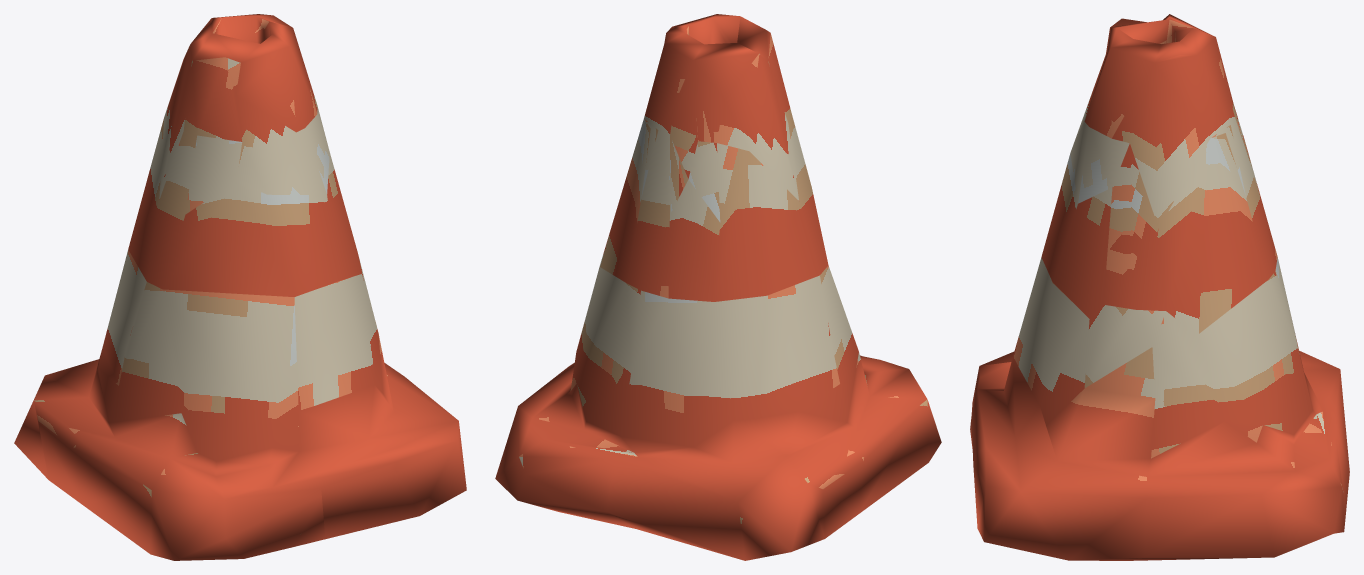
Rendered from hat-cone.glb.
3 renders of one model, left to right at view 1: azimuth 30°, elevation 25°; view 2: azimuth 150°, elevation 25°; view 3: azimuth 270°, elevation 25°, orthographic. The views are drawn at different scales.
Parts seen in each view (by area): view 1: tripo_node_527d05c4-6e12-43c2-9303-499716d3c907; view 2: tripo_node_527d05c4-6e12-43c2-9303-499716d3c907; view 3: tripo_node_527d05c4-6e12-43c2-9303-499716d3c907.
Boxes of the visible parts, x1,y1,x2,y2 form: tripo_node_527d05c4-6e12-43c2-9303-499716d3c907: (14,14,466,560); tripo_node_527d05c4-6e12-43c2-9303-499716d3c907: (495,14,941,560); tripo_node_527d05c4-6e12-43c2-9303-499716d3c907: (970,14,1349,560).
Size of the model in its own units: 0.7429 by 1 by 0.75.
1 material, 1 textured.
